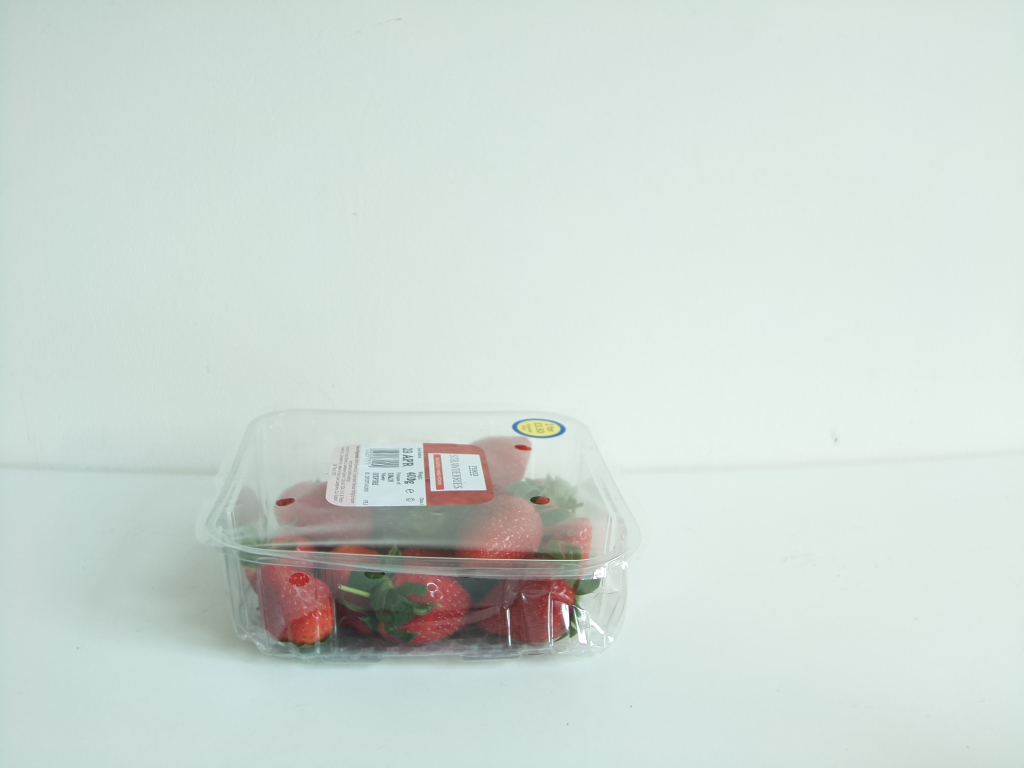soft-fruit: (196, 408, 638, 663)
